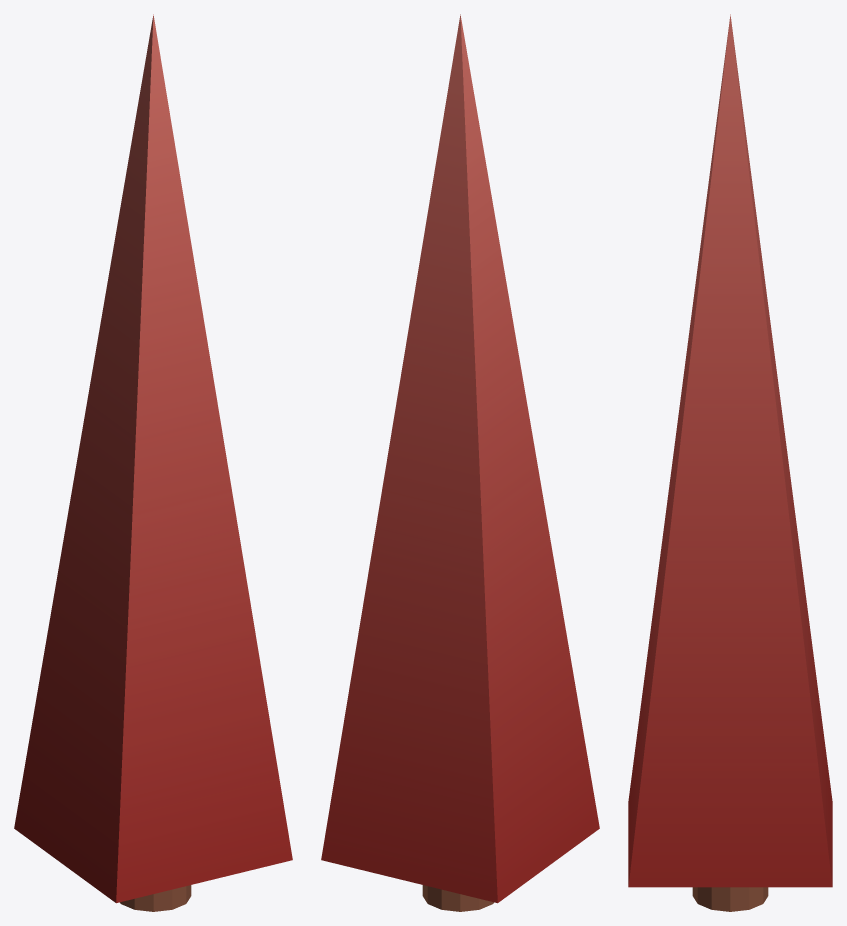
File: Tree_19_gradient_red.fbx
3 views of the same model, side by side, from view 1: azimuth 30°, elevation 25°; view 2: azimuth 150°, elevation 25°; view 3: azimuth 270°, elevation 25° (orthographic).
Visible parts, largest first — view 1: Tree_19_gradient_red; view 2: Tree_19_gradient_red; view 3: Tree_19_gradient_red.
Boxes of the visible parts, x1,y1,x2,y2 form: Tree_19_gradient_red: (14,14,292,911); Tree_19_gradient_red: (321,14,599,911); Tree_19_gradient_red: (628,14,832,911).
Bounding box in the file's own units: 59.69 × 285 × 59.69.
